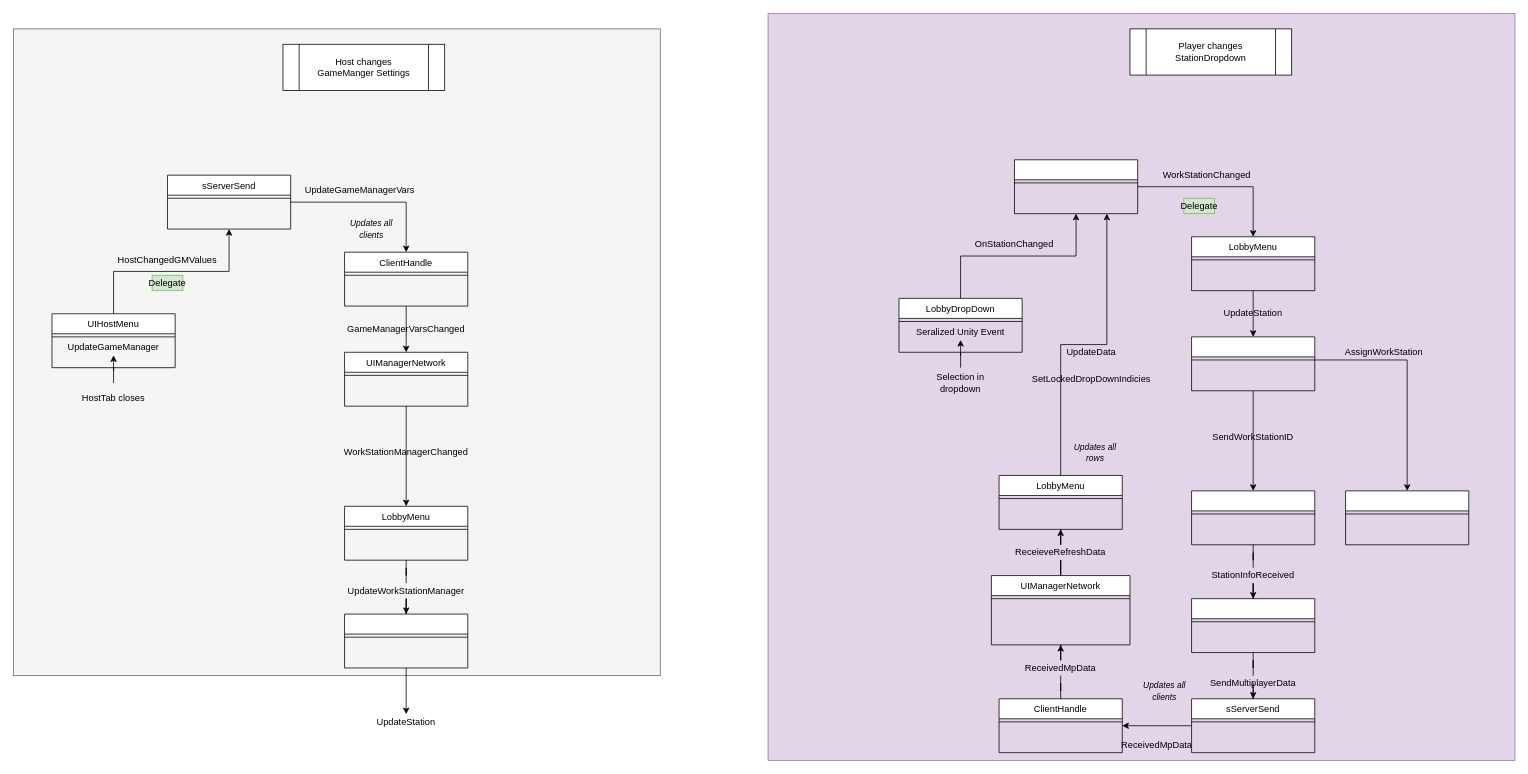
Image size: 1528x774. Some labels were removed from this diagram. The shapes that lost their labels are listed below. From the top down, each one's centre as x and y in pixels, then its label:
At (x=1076, y=186): "LobbyRow".
At (x=1253, y=363): "WorkStationManager".
At (x=1253, y=517): "ClientSend".
At (x=1407, y=517): "GameManager".
At (x=406, y=640): "UILobbyRow".
At (x=1253, y=625): "sServerHandle".
